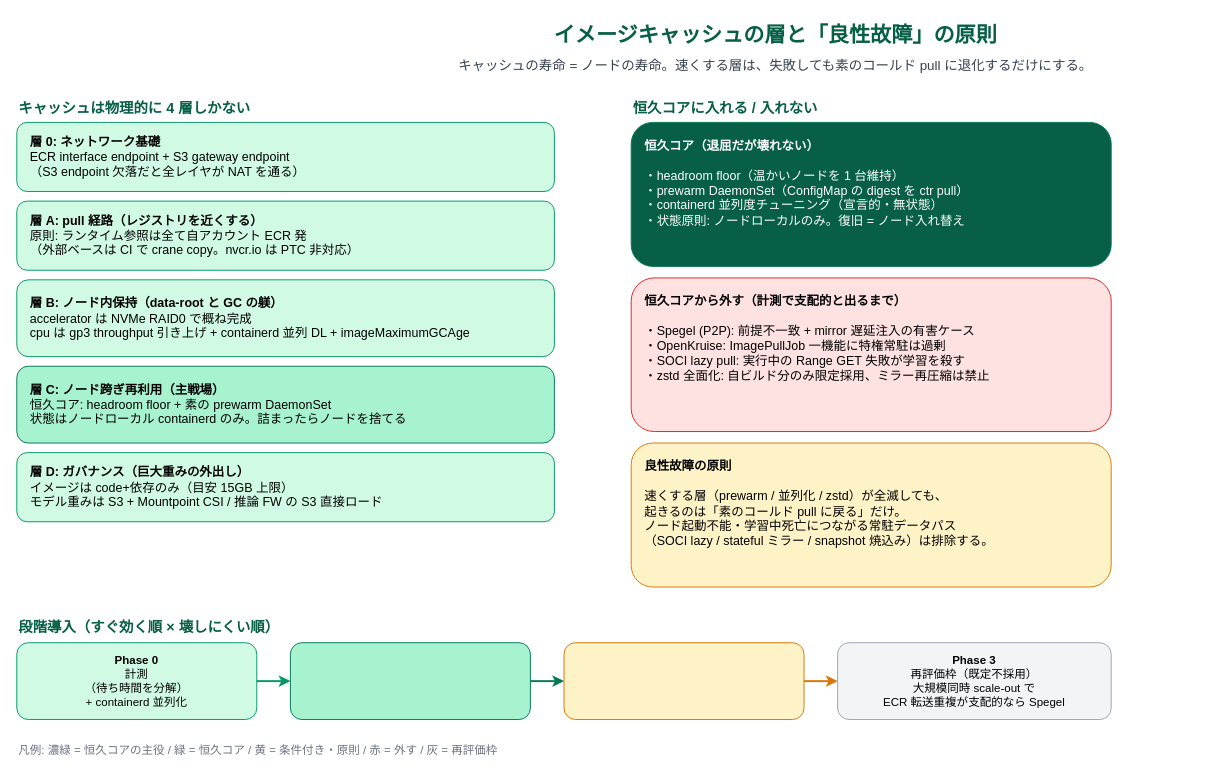
The diagram is 1205 pixels wide and 773 high, and some of its shapes have lost their labels. The box of each missing label's shape, as (x1, y1, x2, y2) in pixels:
Phase 1 恒久コア投入 headroom floor + prewarm DaemonSet: (289, 642, 530, 720)
Phase 2 条件付き最適化 自ビルド分のみ zstd （計測で採否）: (563, 642, 804, 720)
